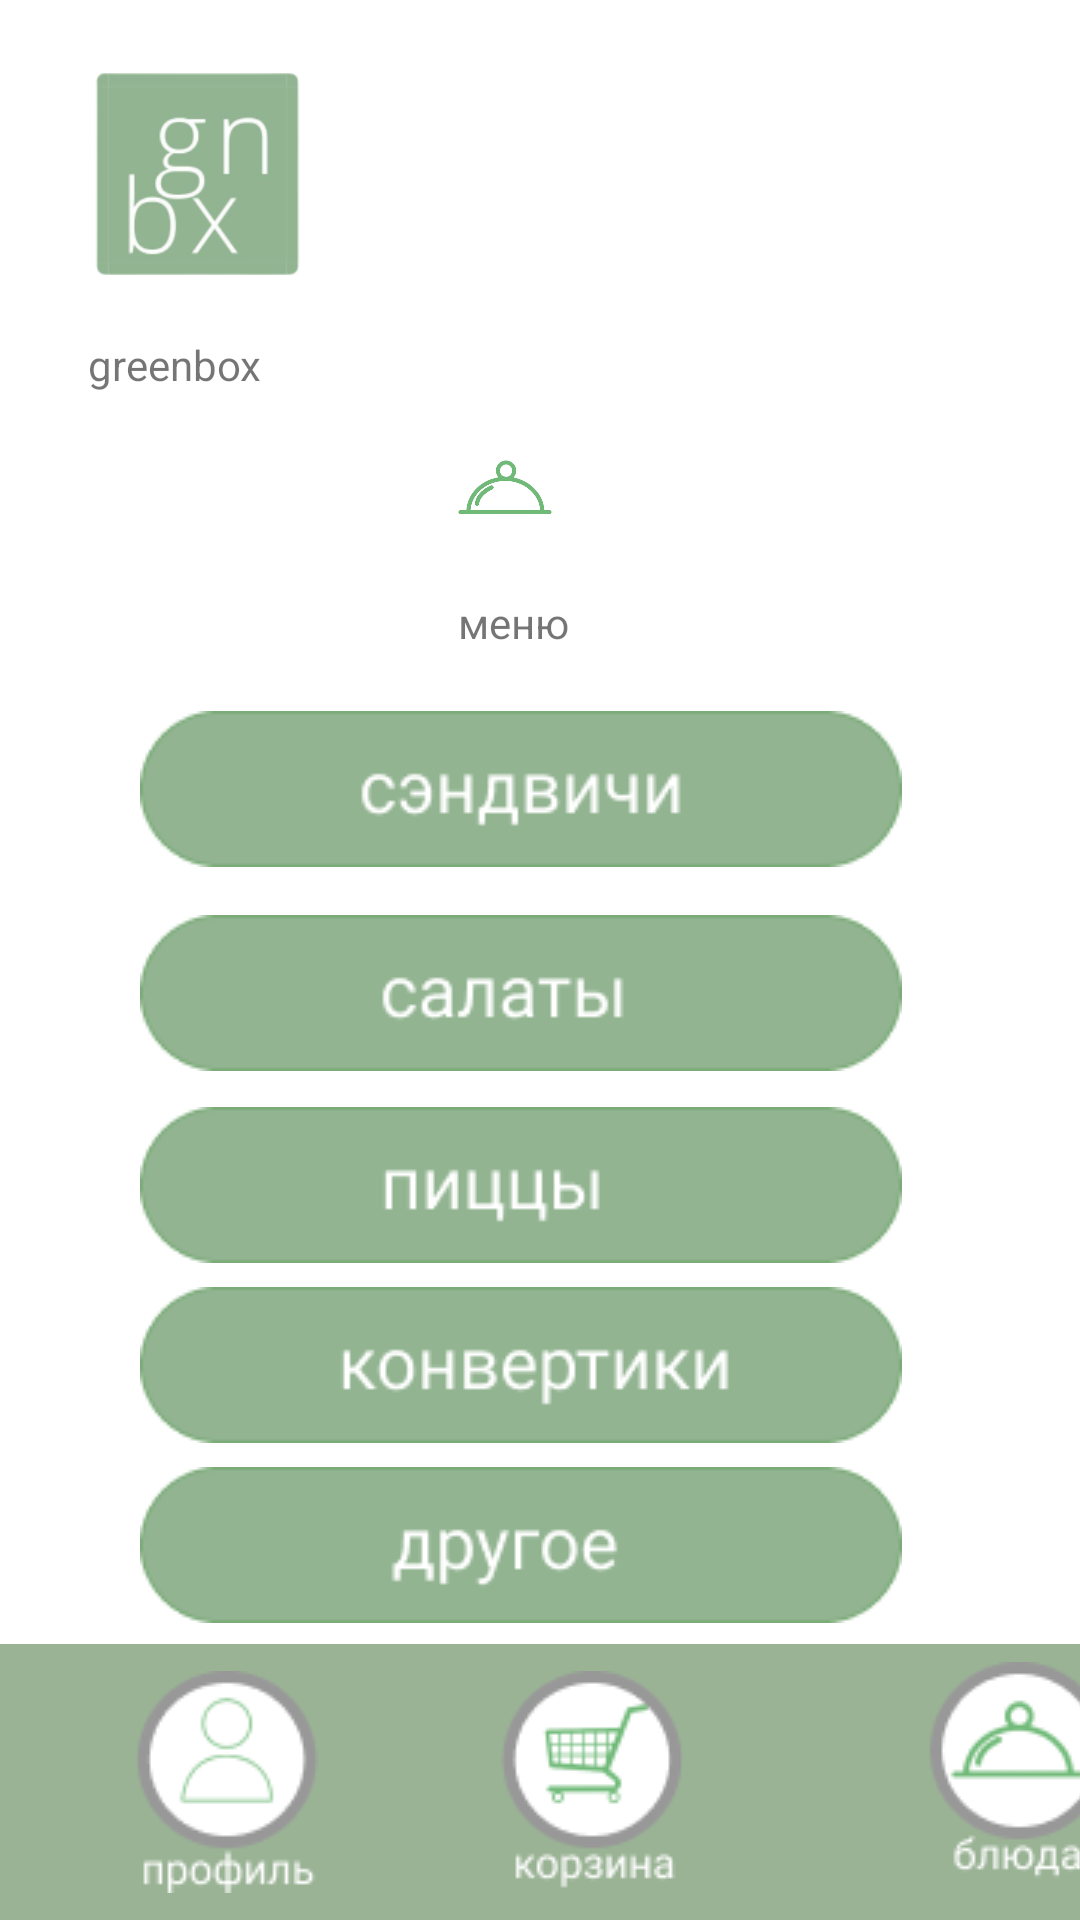

Where to tap for icons on this 1080w x 1920h app screen, as [x,y]:
tamak: [505,487]
